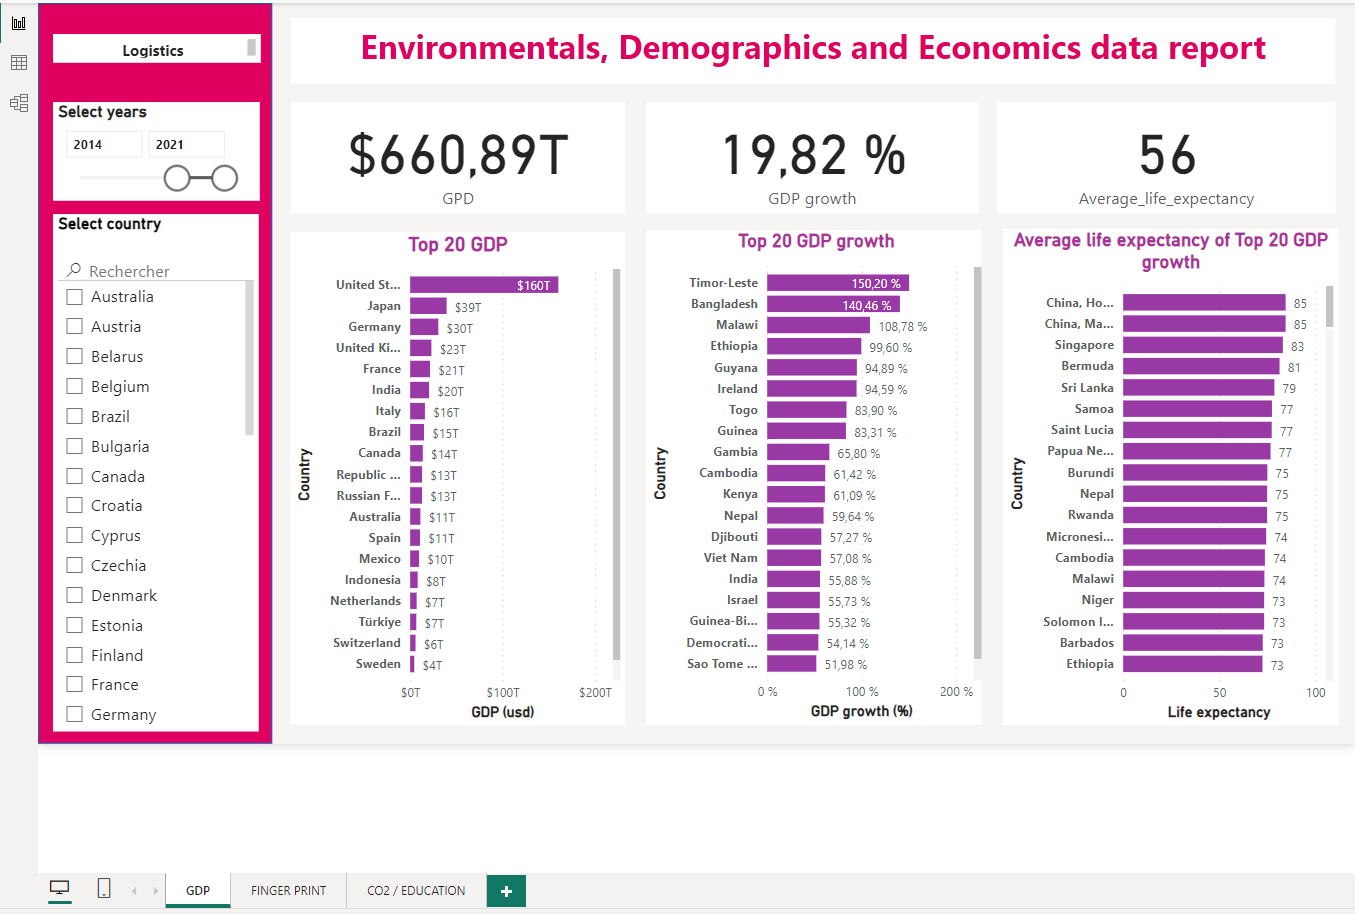

What the dashboard file says about the page in this screenshot:
{"tool":"powerbi","page":{"name":"GDP","canvas":[1280,720],"ordinal":0},"visuals":[{"type":"shape","box":[0,0,227.6,719.8],"z":0,"group":"g5"},{"type":"slicer","title":"Select years","fields":{"Values":["DimDate.FullDate.Variation.Hiérarchie de dates.Année"]},"box":[15,95.8,201.2,96.2],"z":0,"group":"g1"},{"type":"barChart","title":"Top 20 GDP growth","fields":{"Category":["Country Table.Country"],"Y":["Mesures.CroissancePIB"]},"box":[590.6,221.1,326.5,480.8],"z":0},{"type":"group","id":"g1","title":"Groupe 5","box":[15,95.8,200.8,95.8],"z":1000,"group":"g5"},{"type":"barChart","title":"Average life expectancy of Top 20 GDP growth","fields":{"Category":["Country Table.Country"],"Y":["Mesures.Average_life_expectancy"]},"box":[937.8,219.6,326.5,482.3],"z":1000},{"type":"textbox","box":[14.3,671.2,199.9,30.9],"z":2000},{"type":"group","id":"g2","title":"Groupe 1","box":[0,0,227.6,719.8],"z":3000},{"type":"slicer","title":"Select country","fields":{"Values":["Country Table.Country"]},"box":[15,205,200,502.5],"z":3000,"group":"g5"},{"type":"textbox","box":[246.2,15,1015,63.8],"z":4000},{"type":"textbox","box":[14.6,30.1,202.2,28.2],"z":4000,"group":"g5"},{"type":"barChart","title":"Top 20 GDP","fields":{"Category":["Country Table.Country"],"Y":["Mesures.GPD"]},"box":[244.8,222.6,326.5,479.3],"z":5000},{"type":"card","fields":{"Values":["Mesures.GPD"]},"box":[246.3,96.5,325,108.3],"z":6000},{"type":"group","id":"g3","title":"Groupe 2","box":[0,0,227.6,719.8],"z":6002,"group":"g2"},{"type":"card","fields":{"Values":["Mesures.CroissancePIB"]},"box":[590.6,96.5,323.5,108.3],"z":7000},{"type":"group","id":"g4","title":"Groupe 3","box":[0,0,227.6,719.8],"z":7001,"group":"g3"},{"type":"group","id":"g5","title":"Groupe 4","box":[0,0,227.6,719.8],"z":7001,"group":"g4"},{"type":"card","fields":{"Values":["Mesures.Average_life_expectancy"]},"box":[931.9,96.5,329.4,108.3],"z":8000}]}

Visuals, with their boxes on the page's 1280x720 design canvas (x1, y1, x2, y2). These are canvas units, not pixel positions in the 1355x914 screenshot, which may show the page scaled, cropped or inside an application window:
shape: x1=0 y1=0 x2=228 y2=720
"Select years" slicer: x1=15 y1=96 x2=216 y2=192
"Top 20 GDP growth" barChart: x1=591 y1=221 x2=917 y2=702
"Groupe 5" group: x1=15 y1=96 x2=216 y2=192
"Average life expectancy of Top 20 GDP growth" barChart: x1=938 y1=220 x2=1264 y2=702
textbox: x1=14 y1=671 x2=214 y2=702
"Groupe 1" group: x1=0 y1=0 x2=228 y2=720
"Select country" slicer: x1=15 y1=205 x2=215 y2=708
textbox: x1=246 y1=15 x2=1261 y2=79
textbox: x1=15 y1=30 x2=217 y2=58
"Top 20 GDP" barChart: x1=245 y1=223 x2=571 y2=702
card - Mesures.GPD: x1=246 y1=96 x2=571 y2=205
"Groupe 2" group: x1=0 y1=0 x2=228 y2=720
card - Mesures.CroissancePIB: x1=591 y1=96 x2=914 y2=205
"Groupe 3" group: x1=0 y1=0 x2=228 y2=720
"Groupe 4" group: x1=0 y1=0 x2=228 y2=720
card - Mesures.Average_life_expectancy: x1=932 y1=96 x2=1261 y2=205
